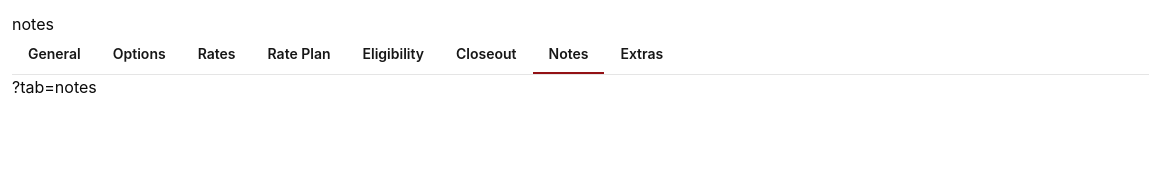
useSupplierServiceDetailTabs › tab bar rendering › should remove tab param from URL when General tab is clicked
Click the tab "General". click: x=54, y=55
box: x1=12 y1=36 x2=97 y2=74
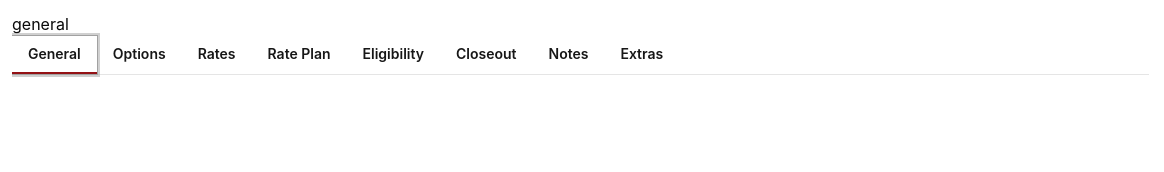
Check: the text with test id "active-tab" reads "general", box x1=12 y1=14 x2=69 y2=34
